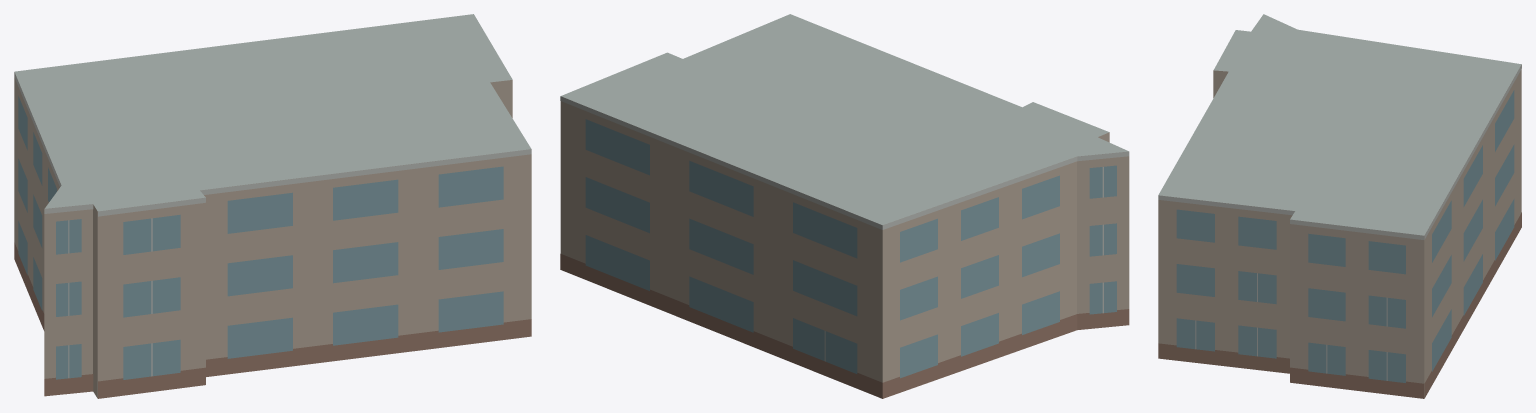
File: survey-upis-32679287.glb
The picture shows the model from 3 angles, left to right: view 1: azimuth 30°, elevation 25°; view 2: azimuth 150°, elevation 25°; view 3: azimuth 270°, elevation 25°; orthographic projection. The views are drawn at different scales.
Parts seen in each view (by area): view 1: survey-upis-32679287.tmp; view 2: survey-upis-32679287.tmp; view 3: survey-upis-32679287.tmp.
Part boxes in pixels (<box>): survey-upis-32679287.tmp: <box>14,14,531,398</box>; survey-upis-32679287.tmp: <box>560,14,1129,398</box>; survey-upis-32679287.tmp: <box>1158,14,1521,398</box>.
Size of the model in its own units: 25.79 by 8.85 by 17.88.
